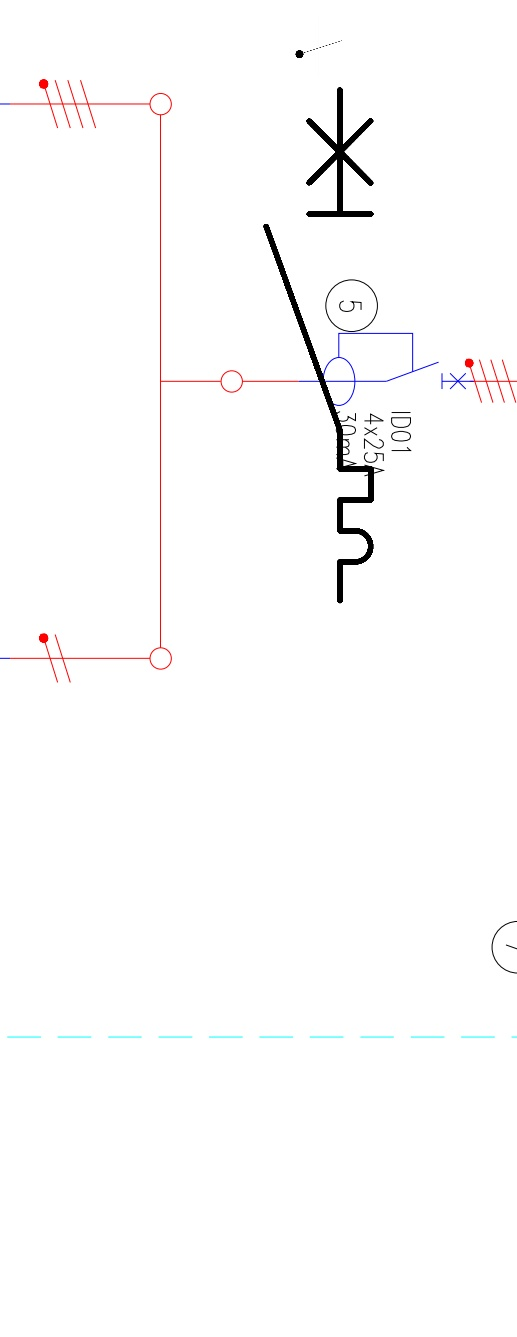interruptor_termomagnetico: (253, 76, 384, 613)
